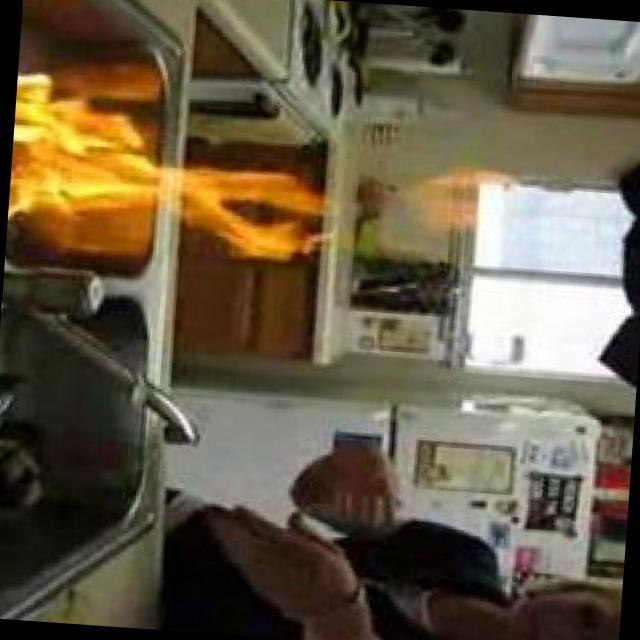Fire: (6, 79, 345, 263), (398, 153, 532, 258)
